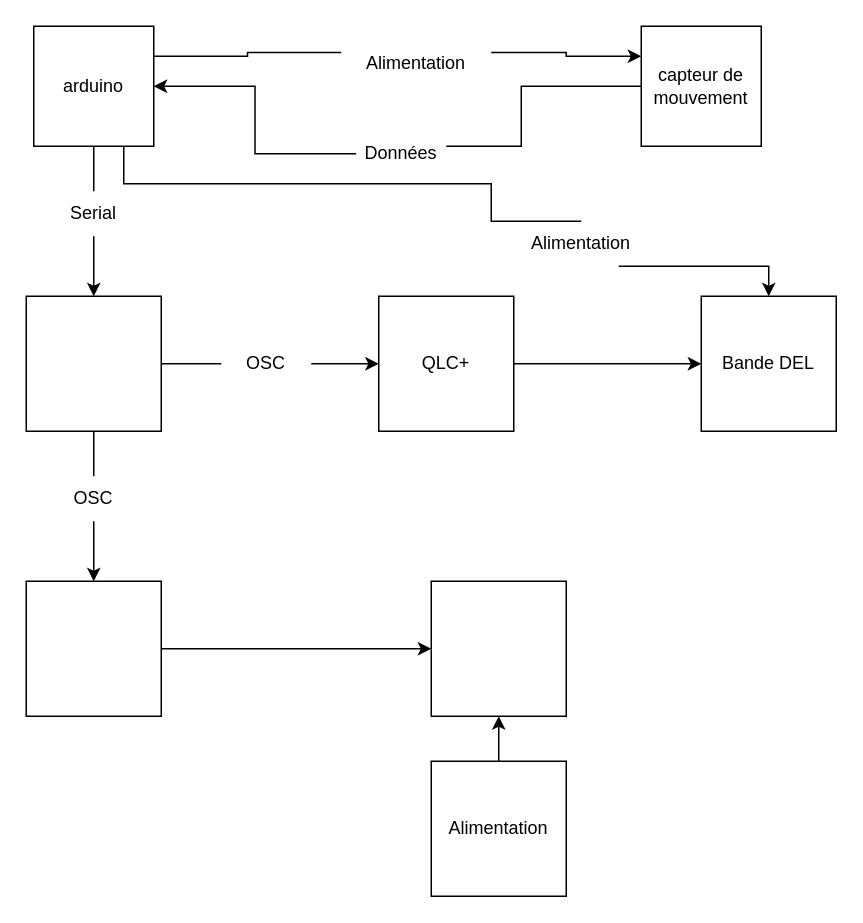
Some shapes in this 863 by 923 pixel diagram are drawn without their labels. The shapes that lost their labels are listed below. From the top down, each one's box as (x1, y1, x2, y2) in pixels, then its label:
(25, 295, 161, 431): ordinateur (raspberry pie)
(25, 580, 161, 716): Logiciel de son
(430, 580, 566, 716): Haut-Parleurs
